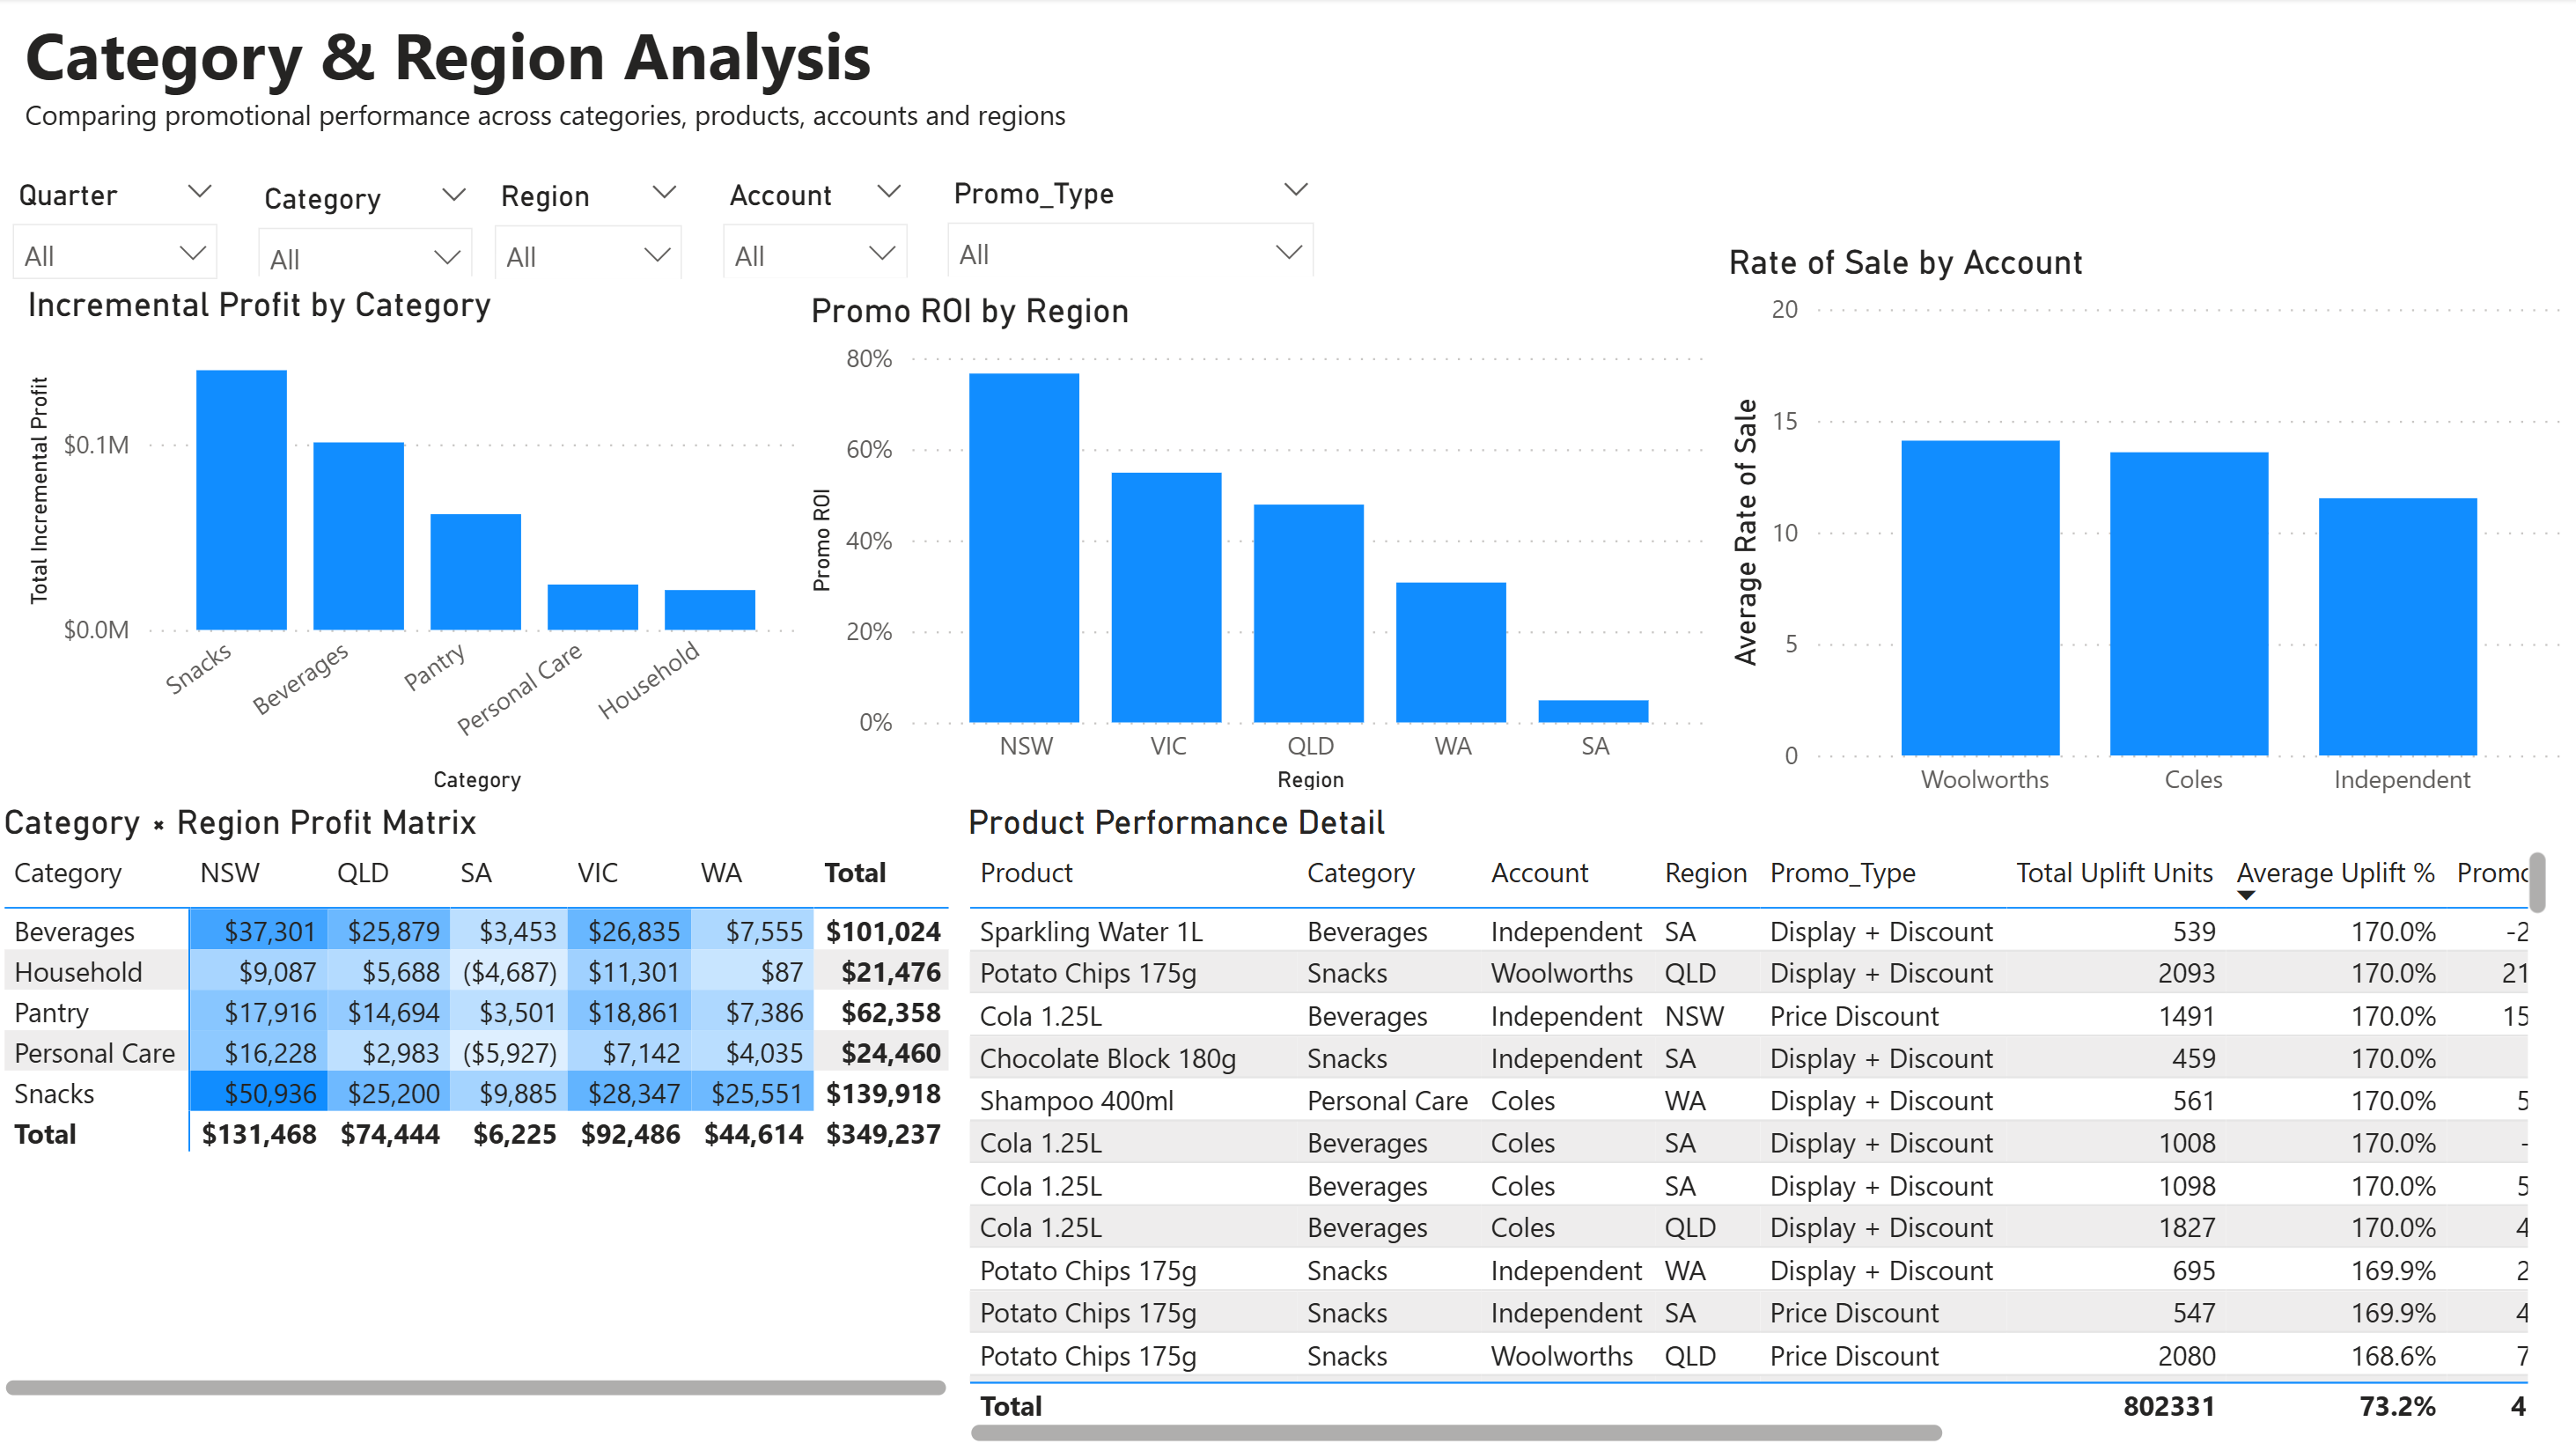

The page's visual inventory and layout, read from the dashboard file:
{"tool":"powerbi","page":{"name":"Category & Region Analysis","canvas":[1280,720],"ordinal":3},"visuals":[{"type":"textbox","box":[10.6,0,545.5,76.4],"z":0},{"type":"slicer","fields":{"Values":["PromoData.Quarter"]},"box":[-0.9,83.5,121.5,57.7],"z":1},{"type":"slicer","fields":{"Values":["PromoData.Category"]},"box":[120.6,86,125.8,52.2],"z":2},{"type":"slicer","fields":{"Values":["PromoData.Region"]},"box":[237.9,84.1,112.9,54.6],"z":3},{"type":"slicer","fields":{"Values":["PromoData.Account"]},"box":[350.8,83.5,111.1,54.6],"z":4},{"type":"slicer","fields":{"Values":["PromoData.Promo_Type"]},"box":[462.2,83,201.3,54.9],"z":5},{"type":"clusteredColumnChart","title":"Incremental Profit by Category","fields":{"Category":["PromoData.Category"],"Y":["_Measures.Total Incremental Profit"]},"box":[11.8,141.3,394.6,256.1],"z":6},{"type":"clusteredColumnChart","title":"Promo ROI by Region","fields":{"Y":["_Measures.Promo ROI"],"Category":["PromoData.Region"]},"box":[399.5,144.8,454.5,252.7],"z":7},{"type":"clusteredColumnChart","title":"Rate of Sale by Account","fields":{"Y":["_Measures.Average Rate of Sale"],"Category":["PromoData.Account"]},"box":[854,120.4,426,297.2],"z":8},{"type":"pivotTable","title":"Category × Region Profit Matrix","fields":{"Rows":["PromoData.Category"],"Columns":["PromoData.Region"],"Values":["_Measures.Total Incremental Profit"]},"box":[0,397.4,477.6,299.8],"z":9},{"type":"tableEx","title":"Product Performance Detail","fields":{"Values":["PromoData.Product","PromoData.Category","PromoData.Account","PromoData.Region","PromoData.Promo_Type","_Measures.Total Uplift Units","_Measures.Average Uplift %","_Measures.Promo ROI","_Measures.Total Incremental Profit","_Measures.Average Rate of Sale","PromoData.Recommendation"]},"box":[477.5,397.4,791.4,322.3],"z":10}]}

Visuals, with their boxes in screenshot pixels (x1, y1, x2, y2), scaled from the page's 1280x720 canvas onto the 2576x1451 screenshot:
textbox: Rect(21, 0, 1119, 154)
slicer - PromoData.Quarter: Rect(0, 168, 243, 284)
slicer - PromoData.Category: Rect(243, 173, 496, 278)
slicer - PromoData.Region: Rect(479, 169, 706, 279)
slicer - PromoData.Account: Rect(706, 168, 930, 278)
slicer - PromoData.Promo_Type: Rect(931, 167, 1336, 278)
"Incremental Profit by Category" clusteredColumnChart: Rect(24, 284, 818, 801)
"Promo ROI by Region" clusteredColumnChart: Rect(804, 291, 1719, 801)
"Rate of Sale by Account" clusteredColumnChart: Rect(1719, 243, 2575, 842)
"Category × Region Profit Matrix" pivotTable: Rect(0, 801, 961, 1405)
"Product Performance Detail" tableEx: Rect(961, 801, 2554, 1450)
